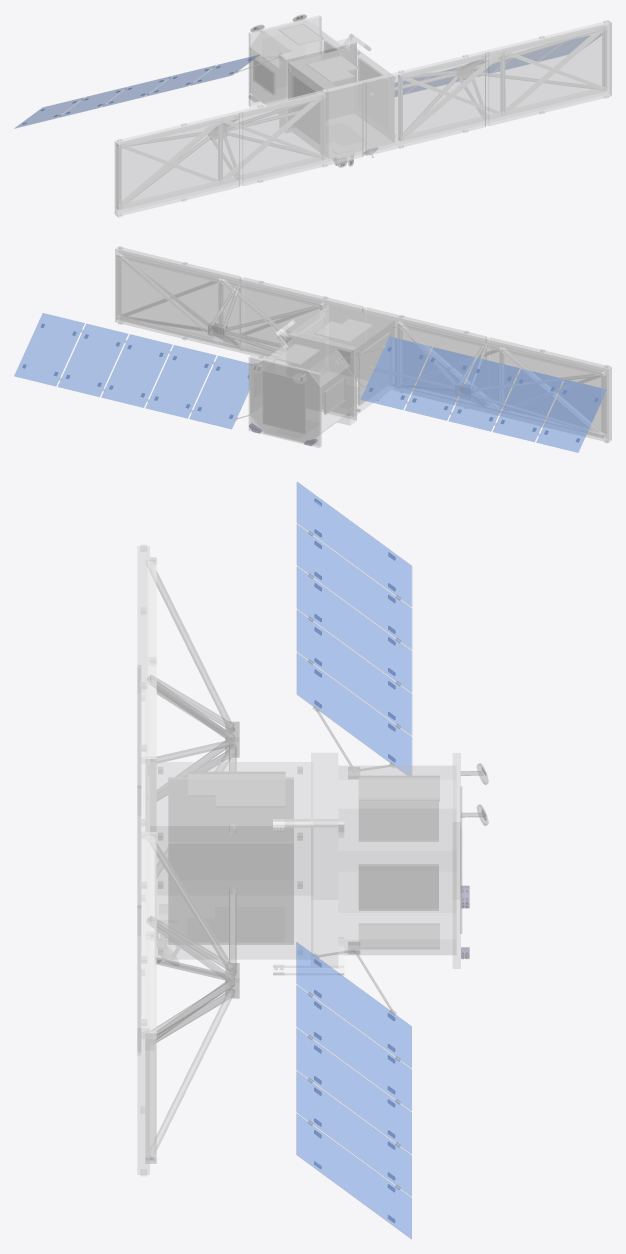
Rendered from RADARSAT-1.glb.
The picture shows the model from 3 angles, top to bottom: view 1: azimuth 30°, elevation 25°; view 2: azimuth 150°, elevation 25°; view 3: azimuth 270°, elevation 25°; orthographic projection. The views are drawn at different scales.
Parts seen in each view (by area): view 1: mesh_0_5, mesh_0_4, mesh_0, mesh_0_16, mesh_0_8, mesh_0_12, mesh_0_1, mesh_0_14, mesh_0_9, mesh_0_6, mesh_0_15, mesh_0_10; view 2: mesh_0_9, mesh_0_8, mesh_0_4, mesh_0_5, mesh_0, mesh_0_15, mesh_0_12, mesh_0_16, mesh_0_1, mesh_0_14, mesh_0_6, mesh_0_7 (+2 smaller); view 3: mesh_0_9, mesh_0_8, mesh_0_14, mesh_0_12, mesh_0_16, mesh_0, mesh_0_1, mesh_0_4, mesh_0_10, mesh_0_5, mesh_0_2, mesh_0_7.
Boxes of the visible parts, x1,y1,x2,y2 form: mesh_0_5: (118, 23, 611, 216); mesh_0_4: (115, 22, 608, 213); mesh_0: (115, 15, 611, 217); mesh_0_16: (263, 20, 390, 88); mesh_0_8: (16, 55, 258, 127); mesh_0_12: (253, 24, 382, 157); mesh_0_1: (122, 32, 595, 205); mesh_0_14: (250, 31, 389, 103); mesh_0_9: (16, 55, 257, 127); mesh_0_6: (59, 43, 561, 116); mesh_0_15: (249, 16, 318, 105); mesh_0_10: (118, 14, 353, 167); mesh_0_9: (15, 314, 606, 452); mesh_0_8: (14, 313, 605, 451); mesh_0_4: (115, 249, 608, 442); mesh_0_5: (119, 248, 611, 439); mesh_0: (115, 246, 611, 447); mesh_0_15: (249, 305, 394, 447); mesh_0_12: (262, 309, 395, 434); mesh_0_16: (264, 305, 393, 432); mesh_0_1: (119, 255, 603, 434); mesh_0_14: (266, 305, 394, 432); mesh_0_6: (59, 330, 561, 435); mesh_0_7: (22, 324, 598, 442); mesh_0_9: (297, 482, 411, 1237); mesh_0_8: (297, 483, 411, 1238); mesh_0_14: (150, 753, 456, 965); mesh_0_12: (157, 767, 461, 969); mesh_0_16: (150, 753, 456, 965); mesh_0: (137, 545, 460, 1175); mesh_0_1: (147, 562, 236, 1155); mesh_0_4: (145, 557, 156, 1163); mesh_0_10: (157, 523, 488, 1153); mesh_0_5: (137, 665, 141, 1054); mesh_0_2: (225, 482, 411, 1238); mesh_0_7: (314, 498, 395, 1222).
Bounding box in the file's own units: 160 × 28.12 × 43.19.
